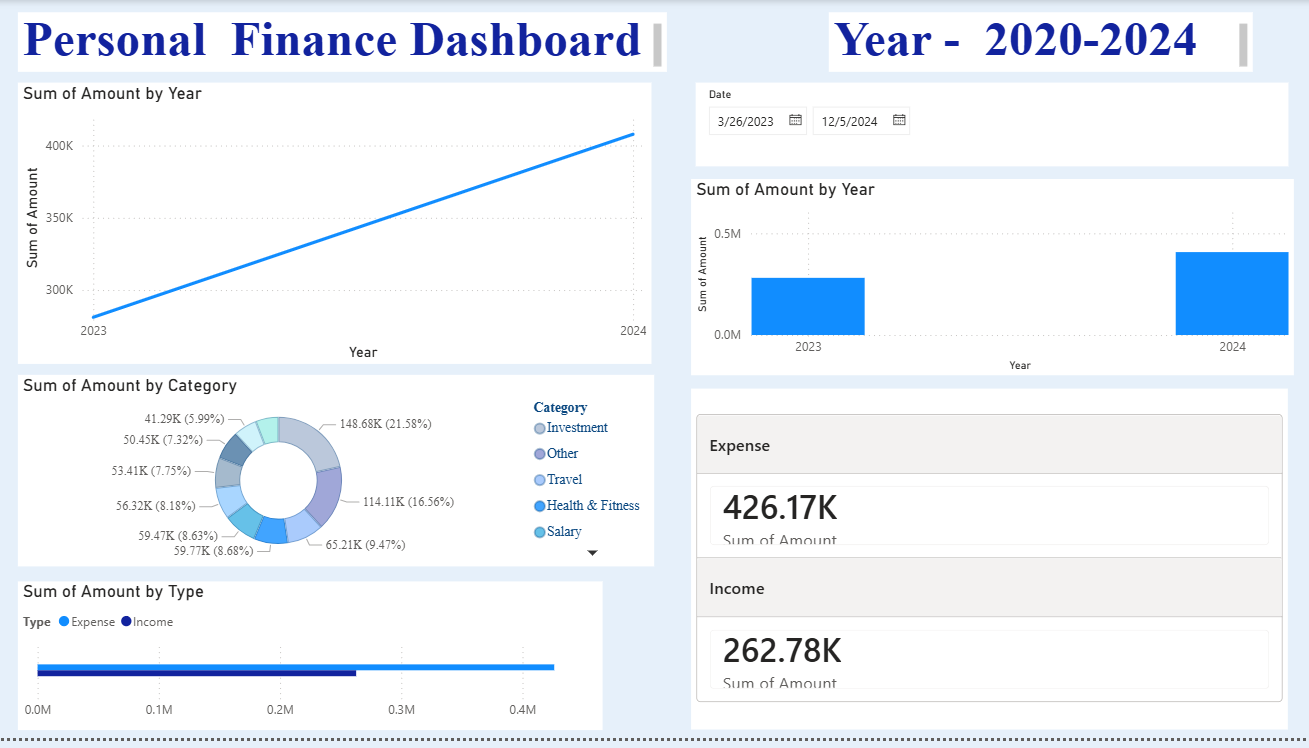

The dashboard page shown, as its layout file describes it:
{"tool":"powerbi","page":{"name":"Page 1","canvas":[1280,720],"ordinal":0},"visuals":[{"type":"textbox","box":[19.4,11.9,633.1,58.2],"z":0},{"type":"textbox","box":[782.4,11.9,441.9,47.8],"z":1000},{"type":"donutChart","fields":{"Category":["Personal_Finance_Dataset.Category"],"Y":["Sum(Personal_Finance_Dataset.Amount)"]},"box":[19.4,365.8,621.1,186.6],"z":2000},{"type":"lineChart","fields":{"Category":["Personal_Finance_Dataset.Date.Variation.Date Hierarchy.Year","Personal_Finance_Dataset.Date.Variation.Date Hierarchy.Quarter","Personal_Finance_Dataset.Date.Variation.Date Hierarchy.Month","Personal_Finance_Dataset.Date.Variation.Date Hierarchy.Day"],"Y":["Sum(Personal_Finance_Dataset.Amount)"]},"box":[19.4,80.6,618.1,274.7],"z":3000},{"type":"slicer","fields":{"Values":["Personal_Finance_Dataset.Date"]},"box":[680.8,70.2,577.8,104.5],"z":4006},{"type":"clusteredBarChart","fields":{"Y":["Sum(Personal_Finance_Dataset.Amount)"],"Series":["Personal_Finance_Dataset.Type"]},"box":[19.4,567.4,570.3,144.8],"z":4008},{"type":"clusteredColumnChart","fields":{"Category":["Personal_Finance_Dataset.Date.Variation.Date Hierarchy.Year"],"Y":["Sum(Personal_Finance_Dataset.Amount)"]},"box":[676.4,186.6,588.3,177.7],"z":4010},{"type":"cardVisual","fields":{"Rows":["Personal_Finance_Dataset.Type"],"Data":["Sum(Personal_Finance_Dataset.Amount)"]},"box":[676.4,379.2,582.3,333],"z":4011}]}

Visuals, with their boxes in screenshot pixels (x1, y1, x2, y2), scaled from the page's 1280x720 canvas onto the 1309x748 screenshot:
textbox: locate(20, 12, 667, 73)
textbox: locate(800, 12, 1252, 62)
donutChart - Personal_Finance_Dataset.Category x Sum(Personal_Finance_Dataset.Amount): locate(20, 380, 655, 574)
lineChart - Personal_Finance_Dataset.Date.Variation.Date Hierarchy.Year x Personal_Finance_Dataset.Date.Variation.Date Hierarchy.Quarter: locate(20, 84, 652, 369)
slicer - Personal_Finance_Dataset.Date: locate(696, 73, 1287, 181)
clusteredBarChart - Sum(Personal_Finance_Dataset.Amount) x Personal_Finance_Dataset.Type: locate(20, 589, 603, 740)
clusteredColumnChart - Personal_Finance_Dataset.Date.Variation.Date Hierarchy.Year x Sum(Personal_Finance_Dataset.Amount): locate(692, 194, 1293, 378)
cardVisual - Personal_Finance_Dataset.Type x Sum(Personal_Finance_Dataset.Amount): locate(692, 394, 1287, 740)
